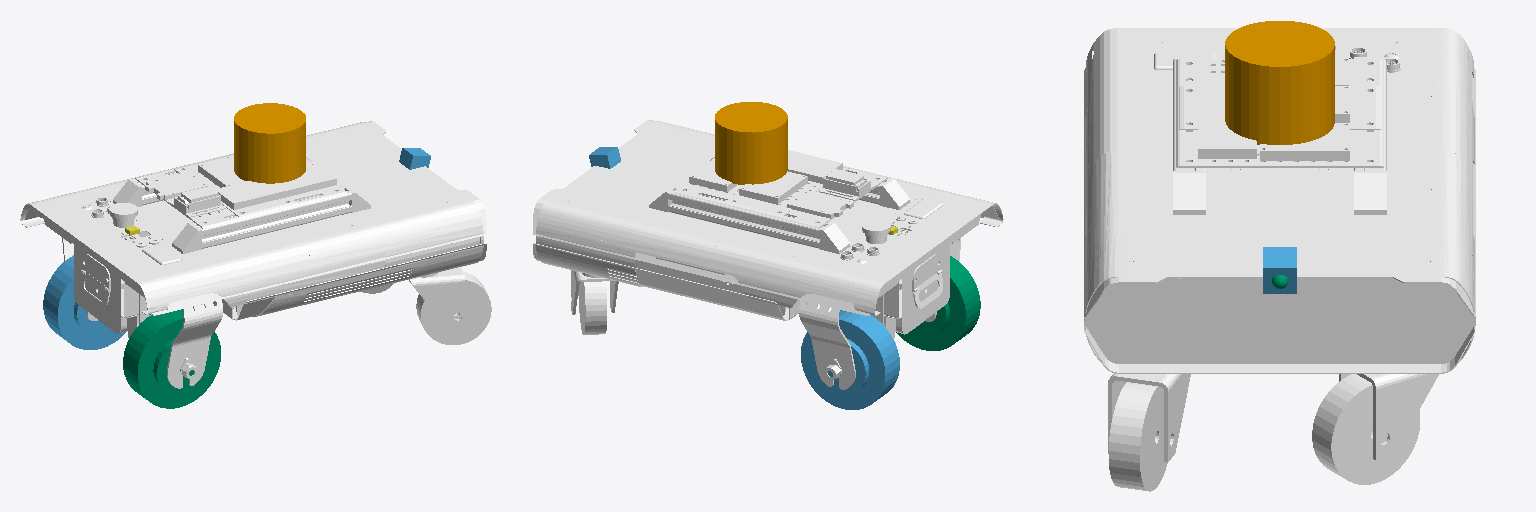
URDF robot description (neor):
<?xml version="1.0" encoding="utf-8"?>
<!-- This URDF was automatically created by SolidWorks to URDF Exporter! Originally created by [author] ([email redacted]) 
     Commit Version: 1.5.1-0-g916b5db  Build Version: 1.5.7152.31018
     For more information, please see http://wiki.ros.org/sw_urdf_exporter -->
<robot
  name="neor">
  <link 
    name="base_link">
    <inertial>
      <origin
        xyz="0.167879507365628 -0.00359252647980702 0.119298610168138"
        rpy="0 0 0" />
      <mass
        value="1.99769813489116" />
      <inertia
        ixx="0.00884194890576968"
        ixy="-2.85763205109085E-07"
        ixz="1.13692269308844E-06"
        iyy="0.0122849475045731"
        iyz="2.62546849263556E-05"
        izz="0.0198557145704335" />
    </inertial>
    <visual>
      <origin
        xyz="0 0 0"
        rpy="0 0 0" />
      <geometry>
        <mesh
          filename="package://neor/meshes/base_link.STL" />
      </geometry>
      <material
        name="">
        <color
          rgba="1 1 1 1" />
      </material>
    </visual>
    <collision>
      <origin
        xyz="0 0 0"
        rpy="0 0 0" />
      <geometry>
        <mesh
          filename="package://neor/meshes/base_link.STL" />
      </geometry>
    </collision>
  </link>
  <link
    name="left_wheel_link">
    <inertial>
      <origin
        xyz="0 2.77555756156289E-17 6.93889390390723E-18"
        rpy="0 0 0" />
      <mass
        value="5.42406230688666" />
      <inertia
        ixx="0.00666461186501377"
        ixy="-4.34780728173011E-17"
        ixz="-3.46065314223795E-08"
        iyy="0.0108754737237616"
        iyz="1.48898597957356E-17"
        izz="0.00666462264232009" />
    </inertial>
    <visual>
      <origin
        xyz="0 0 0"
        rpy="0 0 0" />
      <geometry>
        <mesh
          filename="package://neor/meshes/left_wheel_link.STL" />
      </geometry>

    </visual>
    <collision>
      <origin
        xyz="0 0 0"
        rpy="0 0 0" />
      <geometry>
        <mesh
          filename="package://neor/meshes/left_wheel_link.STL" />
      </geometry>
    </collision>
  </link>
  <joint
    name="left_wheel_joint"
    type="continuous">
    <origin
      xyz="0 0.11025 0"
      rpy="0 0 0" />
    <parent
      link="base_link" />
    <child
      link="left_wheel_link" />
    <axis
      xyz="0 1 0" />
    <limit
      lower="-3.14"
      upper="3.14"
      effort="0"
      velocity="0" />
  </joint>
  <link
    name="right_wheel_Link">
    <inertial>
      <origin
        xyz="1.11022302462516E-16 0 0"
        rpy="0 0 0" />
      <mass
        value="5.42406230688665" />
      <inertia
        ixx="0.00666458263690274"
        ixy="-4.33823931917284E-17"
        ixz="-5.3225217388757E-09"
        iyy="0.0108754737237616"
        iyz="1.47257298016766E-17"
        izz="0.0066646518704311" />
    </inertial>
    <visual>
      <origin
        xyz="0 0 0"
        rpy="0 0 0" />
      <geometry>
        <mesh
          filename="package://neor/meshes/right_wheel_Link.STL" />
      </geometry>
    </visual>
    <collision>
      <origin
        xyz="0 0 0"
        rpy="0 0 0" />
      <geometry>
        <mesh
          filename="package://neor/meshes/right_wheel_Link.STL" />
      </geometry>
    </collision>
  </link>
  <joint
    name="right_wheel_joint"
    type="continuous">
    <origin
      xyz="0 -0.11025 0"
      rpy="0 0 0" />
    <parent
      link="base_link" />
    <child
      link="right_wheel_Link" />
    <axis
      xyz="0 1 0" />
    <limit
      lower="-3.14"
      upper="3.14"
      effort="0"
      velocity="0" />
  </joint>
  <link
    name="left_caster_Link">
    <inertial>
      <origin
        xyz="0.0115894835490932 -0.0160834240912808 -0.0271810314838372"
        rpy="0 0 0" />
      <mass
        value="0.0457759696915572" />
      <inertia
        ixx="4.32568497674313E-05"
        ixy="-2.58020492610068E-06"
        ixz="4.86678404730977E-06"
        iyy="4.49782650453277E-05"
        iyz="-6.75393340776466E-06"
        izz="4.36074022403523E-05" />
    </inertial>
    <visual>
      <origin
        xyz="0 0 0"
        rpy="0 0 0" />
      <geometry>
        <mesh
          filename="package://neor/meshes/left_caster_Link.STL" />
      </geometry>
      <material
        name="">
        <color
          rgba="1 1 1 1" />
      </material>
    </visual>
    <collision>
      <origin
        xyz="0 0 0"
        rpy="0 0 0" />
      <geometry>
        <mesh
          filename="package://neor/meshes/left_caster_Link.STL" />
      </geometry>
    </collision>
  </link>
  <joint
    name="left_caster_joint"
    type="continuous">
    <origin
      xyz="0.4006 0.1125 0.0465"
      rpy="0 0 0" />
    <parent
      link="base_link" />
    <child
      link="left_caster_Link" />
    <axis
      xyz="0 0 -1" />
    <limit
      lower="-3.14"
      upper="3.14"
      effort="0"
      velocity="0" />
  </joint>
  <link
    name="left_caster_wheel_Link">
    <inertial>
      <origin
        xyz="0 1.38777878078145E-17 0"
        rpy="0 0 0" />
      <mass
        value="0.232226528953357" />
      <inertia
        ixx="0.000250095566342319"
        ixy="6.15717679394067E-05"
        ixz="2.21629952945565E-19"
        iyy="0.000209016281398468"
        iyz="1.5657790917171E-19"
        izz="0.00016464860902793" />
    </inertial>
    <visual>
      <origin
        xyz="0 0 0"
        rpy="0 0 0" />
      <geometry>
        <mesh
          filename="package://neor/meshes/left_caster_wheel_Link.STL" />
      </geometry>
      <material
        name="">
        <color
          rgba="1 1 1 1" />
      </material>
    </visual>
    <collision>
      <origin
        xyz="0 0 0"
        rpy="0 0 0" />
      <geometry>
        <mesh
          filename="package://neor/meshes/left_caster_wheel_Link.STL" />
      </geometry>
    </collision>
  </link>
  <joint
    name="left_caster_wheel_joint"
    type="continuous">
    <origin
      xyz="0.024532 -0.034044 -0.066"
      rpy="0 0 0" />
    <parent
      link="left_caster_Link" />
    <child
      link="left_caster_wheel_Link" />
    <axis
      xyz="-0.81131 -0.58462 0" />
  </joint>
  <link
    name="right_caster_Link">
    <inertial>
      <origin
        xyz="0.0188041520422844 -0.00627670432990625 -0.0271810284056899"
        rpy="0 0 0" />
      <mass
        value="0.0457759516780475" />
      <inertia
        ixx="4.62921637504073E-05"
        ixy="-1.63379166334245E-06"
        ixz="7.89645340975582E-06"
        iyy="4.194292119082E-05"
        iyz="-2.6357777730359E-06"
        izz="4.36073573670601E-05" />
    </inertial>
    <visual>
      <origin
        xyz="0 0 0"
        rpy="0 0 0" />
      <geometry>
        <mesh
          filename="package://neor/meshes/right_caster_Link.STL" />
      </geometry>
      <material
        name="">
        <color
          rgba="1 1 1 1" />
      </material>
    </visual>
    <collision>
      <origin
        xyz="0 0 0"
        rpy="0 0 0" />
      <geometry>
        <mesh
          filename="package://neor/meshes/right_caster_Link.STL" />
      </geometry>
    </collision>
  </link>
  <joint
    name="right_caster_joint"
    type="continuous">
    <origin
      xyz="0.4006 -0.1125 0.0465"
      rpy="0 0 0" />
    <parent
      link="base_link" />
    <child
      link="right_caster_Link" />
    <axis
      xyz="0 0 -1" />
    <limit
      lower="-3.14"
      upper="3.14"
      effort="0"
      velocity="0" />
  </joint>
  <link
    name="right_caster_wheel_Link">
    <inertial>
      <origin
        xyz="-5.55111512312578E-17 0 0"
        rpy="0 0 0" />
      <mass
        value="0.232226528953358" />
      <inertia
        ixx="0.00017766232401311"
        ixy="3.89873545385007E-05"
        ixz="1.36110275740017E-19"
        iyy="0.000281449523727678"
        iyz="4.07814885635416E-19"
        izz="0.000164648609027931" />
    </inertial>
    <visual>
      <origin
        xyz="0 0 0"
        rpy="0 0 0" />
      <geometry>
        <mesh
          filename="package://neor/meshes/right_caster_wheel_Link.STL" />
      </geometry>
      <material
        name="">
        <color
          rgba="1 1 1 1" />
      </material>
    </visual>
    <collision>
      <origin
        xyz="0 0 0"
        rpy="0 0 0" />
      <geometry>
        <mesh
          filename="package://neor/meshes/right_caster_wheel_Link.STL" />
      </geometry>
    </collision>
  </link>
  <joint
    name="right_caster_wheel_joint"
    type="continuous">
    <origin
      xyz="0.039803 -0.013286 -0.066"
      rpy="0 0 0" />
    <parent
      link="right_caster_Link" />
    <child
      link="right_caster_wheel_Link" />
    <axis
      xyz="-0.31662 -0.94855 0" />
  </joint>

  <!--  手动添加深度摄像头模型  -->
  <link name="deep_camera_link">
    <visual>
      <geometry>
        <mesh filename="package://neor/meshes/kinect_Link.STL"/>
      </geometry>
    </visual>
  </link>
  <joint name ="deep_camera_joints" type="fixed">
    <origin xyz="0.40 0.0 0.197" rpy="-1.57 0.0 -1.57"/>
    <parent link="base_link"/>
    <child link="deep_camera_link"/>
  </joint>
<!--*********************************************************************-->
 
  <!--  手动添加激光雷达模型 -->
  <link name="laser_link">
    <visual>
      <geometry>
        <cylinder length="0.08" radius="0.05"/>
      </geometry>
    </visual>
  </link>
  <joint name ="2Dlaser_joints" type="fixed">
    <origin xyz="0.22 0.0 0.23" rpy="0.0 0.0 0.0"/>
    <parent link="base_link"/>
    <child link="laser_link"/>
  </joint>
<!--*********************************************************************-->
 
 <!--  手动添加摄像头模型   -->
<link name="camerabase_link">
    <visual>
      <geometry>
        <box size="0.03 0.03 0.03"/>
      </geometry>
    </visual>
  </link>
  <joint name ="camerabase_joints" type="fixed">
    <origin xyz="0.45 0.0 0.15" rpy="0.0 0.26 0.0"/>
    <parent link="base_link"/>
    <child link="camerabase_link"/>
  </joint>
  <link name="camera_link">
    <visual>
      <geometry>
        <sphere radius="0.0075" />
      </geometry>
    </visual>
  </link>
  <joint name ="camera_joints" type="fixed">
    <origin xyz="0.015 0.0 0.0" rpy="0.0 0.0 0.0"/>
    <parent link="camerabase_link"/>
    <child link="camera_link"/>
  </joint>

<!--*********************************************************************-->

  <!--  手动添加imu模型   -->
  <link name="imu_link">
    <visual>
      <geometry>
        <box size="0.015 0.015 0.007"/>
      </geometry>
    </visual>
  </link>
  <joint name ="imu_joints" type="fixed">
    <origin xyz="0.0 0.0 0.15" rpy="0.0 0.0 0.0"/>
    <parent link="base_link"/>
    <child link="imu_link"/>
  </joint>
<!--*********************************************************************-->

 <!--为link配置颜色-->
  <gazebo reference="base_link">
    <material>Gazebo/White</material>      <!--  (Yellow) (YellowGlow) (YellowTransparent)  (ZincYellow) (Yellow) (DarkYellow) -->
  </gazebo>

  <gazebo reference="right_caster_Link">
    <material>Gazebo/DarkGrey</material>
  </gazebo>

  <gazebo reference="left_caster_Link">
    <material>Gazebo/DarkGrey</material>
  </gazebo>

  <gazebo reference="left_caster_wheel_Link">
    <material>Gazebo/Black</material>
  </gazebo>

  <gazebo reference="right_caster_wheel_Link">
    <material>Gazebo/Black</material>
  </gazebo>
  
  <gazebo reference="left_wheel_link">
    <material>Gazebo/Black</material>
  </gazebo>

  <gazebo reference="right_wheel_Link">
    <material>Gazebo/Black</material>
  </gazebo>

    <gazebo reference="deep_camera_link">
    <material>Gazebo/Black </material>
  </gazebo>

  <gazebo reference="laser_link">
    <material>Gazebo/Black</material>
  </gazebo>

  <gazebo reference="camera_link">
    <material>Gazebo/Black</material>
  </gazebo>

  <gazebo reference="imu_link">
    <material>Gazebo/SkyBlue</material>
  </gazebo>
<!--*********************************************************************-->

<!--为机器人的关节 joint 添加传动机构-->>
  <transmission name="simple_trans_left_Back">
    <type>transmission_interface/SimpleTransmission</type>
    <joint name="left_wheel_joint">
      <hardwareInterface>EffortJointInterface</hardwareInterface>
    </joint>
    <actuator name="left_wheel_motor">
      <mechanicalReduction>50</mechanicalReduction>
      <hardwareInterface>EffortJointInterface</hardwareInterface>
    </actuator>
  </transmission>

  <transmission name="simple_trans_right_Back">
    <type>transmission_interface/SimpleTransmission</type>
    <joint name="right_wheel_jont">
      <hardwareInterface>EffortJointInterface</hardwareInterface>
    </joint>
    <actuator name="right_wheel_motor">
      <mechanicalReduction>50</mechanicalReduction>
      <hardwareInterface>EffortJointInterface</hardwareInterface>
    </actuator>
  </transmission>
<!--*********************************************************************-->

<!--为机器人添加差速控制插件-->  
  <gazebo>
    <plugin name="differential_drive_controller_left" filename="libgazebo_ros_diff_drive.so">
      <rosDebugLevel>Debug</rosDebugLevel>
      <publishWheelTF>true</publishWheelTF>
      <robotNamespace>/</robotNamespace>
      <publishTf>1</publishTf>
      <publishWheelJointState>true</publishWheelJointState>
      <alwaysOn>true</alwaysOn>
      <updateRate>100.0</updateRate>
      <legacyMode>true</legacyMode>
      <leftJoint>left_wheel_joint</leftJoint>
      <rightJoint>right_wheel_joint</rightJoint>
      <wheelSeparation>0.24</wheelSeparation>
      <wheelDiameter>0.14</wheelDiameter>
      <publishOdomTF>true</publishOdomTF>
      <wheelTorque>30</wheelTorque>
      <wheelAcceleration>0.15</wheelAcceleration>
      <commandTopic>cmd_vel</commandTopic>
      <odometryFrame>odom</odometryFrame> 
      <odometryTopic>odom</odometryTopic> 
      <odometrySource>1</odometrySource>
      <robotBaseFrame>base_link</robotBaseFrame>
    </plugin>
  </gazebo> 
<!--*********************************************************************-->



 <!-- 手动添加深度相机仿真插件 -->
  <gazebo reference="deep_camera_link">
    <sensor name="deep_camera" type="depth">
      <update_rate>20</update_rate>
      <camera>
        <horizontal_fov>1.047198</horizontal_fov>
        <image>
          <width>640</width>
          <height>480</height>
          <format>R8G8B8</format>
        </image>
        <clip>
          <near>0.05</near>
          <far>3</far>
        </clip>
      </camera>
      <plugin name="deep_camera_controller" filename="libgazebo_ros_openni_kinect.so">
        <baseline>0.2</baseline>
        <alwaysOn>true</alwaysOn>
        <updateRate>1.0</updateRate>
        <cameraName>/deep_camera</cameraName>
        <imageTopicName>/deep_camera/image_raw</imageTopicName>
        <cameraInfoTopicName>/deep_camera/color/camera_info</cameraInfoTopicName>
        <depthImageTopicName>/deep_camera/depth/image_raw</depthImageTopicName>
        <depthImageInfoTopicName>/deep_camera/depth/camera_info</depthImageInfoTopicName>
        <pointCloudTopicName>/deep_camera/depth/points</pointCloudTopicName>
        <frameName>deep_camera_link</frameName>
        <pointCloudCutoff>0.5</pointCloudCutoff>
        <pointCloudCutoffMax>3.0</pointCloudCutoffMax>
        <distortionK1>0.00000001</distortionK1>
        <distortionK2>0.00000001</distortionK2>
        <distortionK3>0.00000001</distortionK3>
        <distortionT1>0.00000001</distortionT1>
        <distortionT2>0.00000001</distortionT2>
        <CxPrime>0</CxPrime>
        <Cx>0</Cx>
        <Cy>0</Cy>
        <focalLength>0</focalLength>
        <hackBaseline>0</hackBaseline>
      </plugin>
    </sensor>
  </gazebo>

<!--*********************************************************************-->

  <!-- 手动添加camera仿真插件 -->
  <gazebo reference="camera_link">
    <sensor type="camera" name="camera1">
      <update_rate>30.0</update_rate>
      <camera name="head">
        <horizontal_fov>1.3962634</horizontal_fov>
        <image>
          <width>800</width>
          <height>800</height>
          <format>R8G8B8</format>
        </image>
        <clip>
          <near>0.02</near>
          <far>300</far>
        </clip>
        <noise>
          <type>gaussian</type>
          <!-- Noise is sampled independently per pixel on each frame.
               That pixel's noise value is added to each of its color
               channels, which at that point lie in the range [0,1]. -->
          <mean>0.0</mean>
          <stddev>0.007</stddev>
        </noise>
      </camera>
      <plugin name="camera_controller" filename="libgazebo_ros_camera.so">
        <alwaysOn>true</alwaysOn>
        <updateRate>0.0</updateRate>
        <cameraName>camera1</cameraName>
        <imageTopicName>image_raw</imageTopicName>
        <cameraInfoTopicName>camera_info</cameraInfoTopicName>
        <frameName>base_link</frameName>
        <hackBaseline>0.07</hackBaseline>
        <distortionK1>0.0</distortionK1>
        <distortionK2>0.0</distortionK2>
        <distortionK3>0.0</distortionK3>
        <distortionT1>0.0</distortionT1>
        <distortionT2>0.0</distortionT2>
      </plugin>
    </sensor>
  </gazebo>
<!--*********************************************************************-->


  <!-- 手动添加深激光雷达仿真插件  -->
  <gazebo reference="laser_link">
    <sensor type="ray" name="head_laser_sensor">
      <pose>0 0 0 0 0 0</pose>
      <visualize>false</visualize>
      <update_rate>40</update_rate>
      <ray>
        <scan>
          <horizontal>
            <samples>720</samples>
            <resolution>1</resolution>
            <min_angle>-1.570796</min_angle>
            <max_angle>1.570796</max_angle>
          </horizontal>
        </scan>
        <range>
          <min>0.10</min>
          <max>30.0</max>
          <resolution>0.01</resolution>
        </range>
        <noise>
          <type>gaussian</type>
          <!-- Noise parameters based on published spec for Hokuyo laser
               achieving "+-30mm" accuracy at range < 10m.  A mean of 0.0m and
               stddev of 0.01m will put 99.7% of samples within 0.03m of the true
               reading. -->
          <mean>0.0</mean>
          <stddev>0.01</stddev>
        </noise>
      </ray>
      <plugin name="gazebo_ros_head_laser_controller" filename="libgazebo_ros_laser.so">
        <topicName>scan</topicName>
        <frameName>laser_link</frameName>
      </plugin>
    </sensor>
  </gazebo>
  
<!--*********************************************************************-->


  <!-- 手动添加imu仿真插件  -->
  <gazebo reference="imu_link">
    <gravity>true</gravity>
    <sensor name="imu_sensor" type="imu">
      <always_on>true</always_on>
      <update_rate>100</update_rate>
      <visualize>true</visualize>
      <topic>__default_topic__</topic>
      <plugin filename="libgazebo_ros_imu_sensor.so" name="imu_plugin">
        <topicName>imu</topicName>
        <bodyName>imu_link</bodyName>
        <updateRateHZ>10.0</updateRateHZ>
        <gaussianNoise>0.0</gaussianNoise>
        <xyzOffset>0 0 0</xyzOffset>
        <rpyOffset>0 0 0</rpyOffset>
        <frameName>imu_link</frameName>
        <initialOrientationAsReference>false</initialOrientationAsReference>
      </plugin>
      <pose>0 0 0 0 0 0</pose>
    </sensor>
  </gazebo>
  
<!--*********************************************************************-->

 

</robot>

--- Facts derived from the render (not from the file) ---
Views: 3 orthographic renders of the robot side by side, from view 1: azimuth 30°, elevation 25°; view 2: azimuth 150°, elevation 25°; view 3: azimuth 270°, elevation 25°.
Model neor with 12 links and 11 joints (6 continuous, 5 fixed), rooted at base_link, posed all joints at 0.
Links seen in each view (by area): view 1: base_link, laser_link, right_wheel_Link, left_wheel_link, right_caster_wheel_Link, right_caster_Link, camerabase_link; view 2: base_link, laser_link, left_wheel_link, right_wheel_Link, left_caster_wheel_Link, left_caster_Link, camerabase_link; view 3: base_link, laser_link, left_caster_wheel_Link, right_caster_wheel_Link, left_caster_Link, right_caster_Link, camerabase_link.
Link boxes in pixels (box(x1,y1,x2,y2)): base_link: box(20, 121, 486, 388); laser_link: box(234, 103, 305, 183); right_wheel_Link: box(123, 309, 220, 408); left_wheel_link: box(43, 255, 125, 349); right_caster_wheel_Link: box(416, 272, 491, 344); right_caster_Link: box(409, 267, 464, 329); camerabase_link: box(399, 148, 430, 169); base_link: box(533, 120, 1003, 389); laser_link: box(715, 102, 787, 184); left_wheel_link: box(801, 310, 899, 409); right_wheel_Link: box(896, 256, 980, 350); left_caster_wheel_Link: box(578, 281, 606, 334); left_caster_Link: box(571, 270, 618, 314); camerabase_link: box(589, 147, 620, 168); base_link: box(1084, 28, 1475, 373); laser_link: box(1225, 21, 1334, 144); left_caster_wheel_Link: box(1312, 374, 1419, 484); right_caster_wheel_Link: box(1109, 382, 1167, 491); left_caster_Link: box(1339, 374, 1438, 459); right_caster_Link: box(1108, 373, 1190, 461); camerabase_link: box(1263, 247, 1296, 293).
Bounding box of the posed robot: 0.5688 × 0.357 × 0.3395 m (x, y, z).
7 mesh visuals loaded from 8 distinct referenced files (7 binary STL); not drawn: 1 (reference not matched to a file when rendering).
